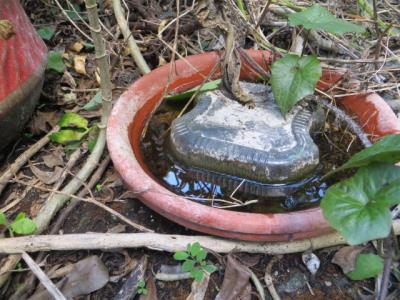box: (170, 83, 325, 198)
plate: (102, 42, 398, 247)
